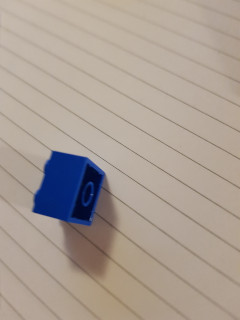2x2 blue: (29, 148, 108, 229)
